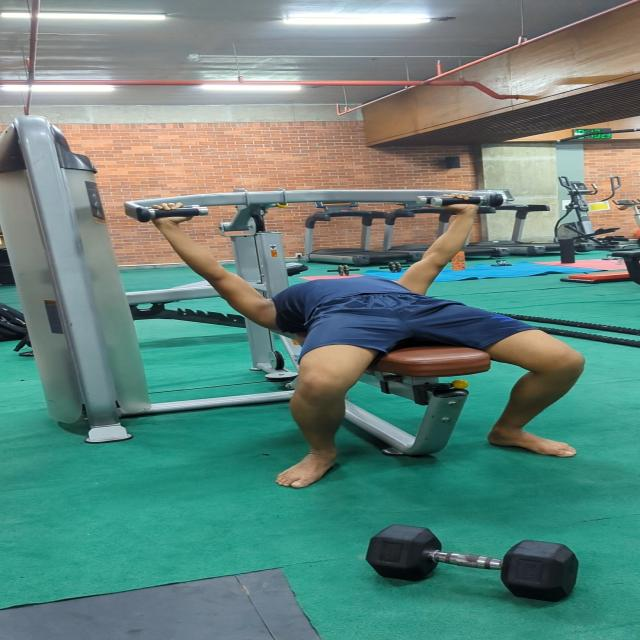Normal_BrenchPress: (116, 186, 640, 490)
